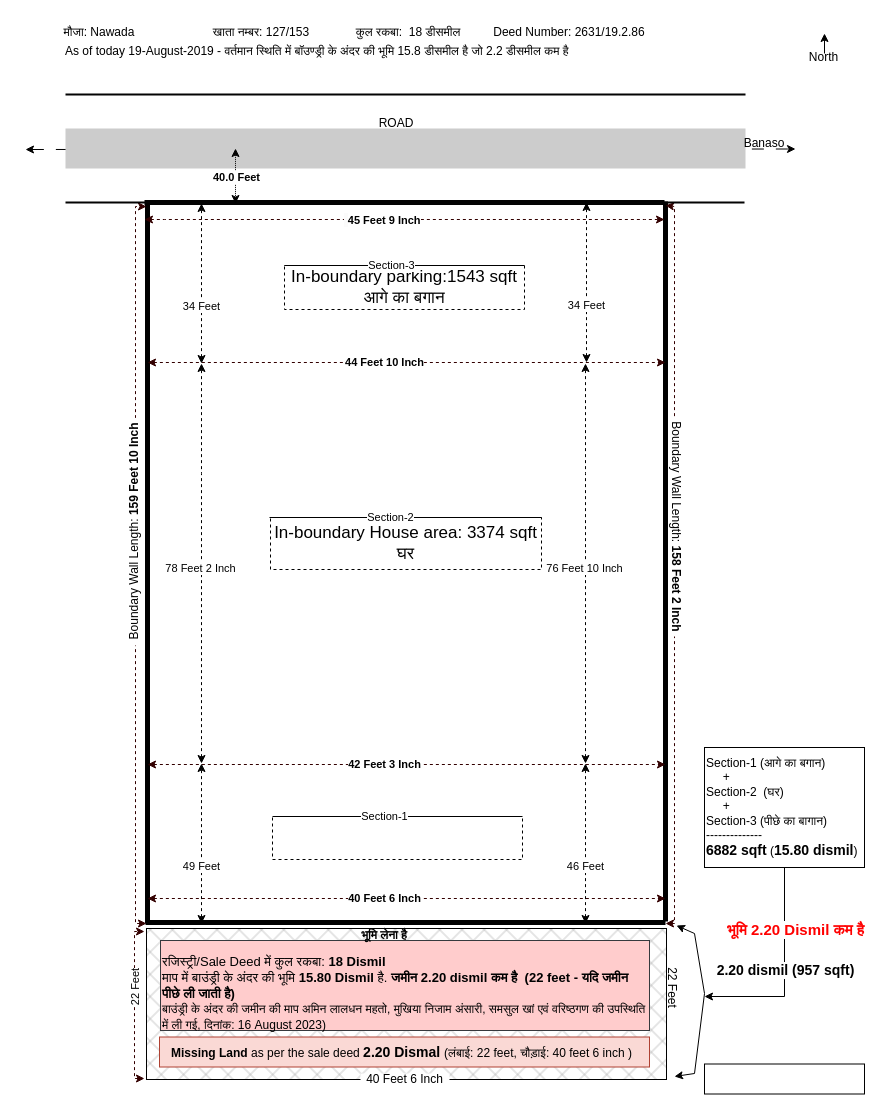
This 885x1111 diagram has some shape labels left out. The shapes that lost their labels are listed below. From the top down, each one's box as (x1, y1, x2, y2) in pixels, then its label:
(65, 128, 745, 168): Nawada
(272, 816, 522, 860): In-boundary backyard: 1965 sqft पीछे का बागान
(704, 1063, 864, 1094): 1 dismil = 435.56 sqft in Jharkhand
